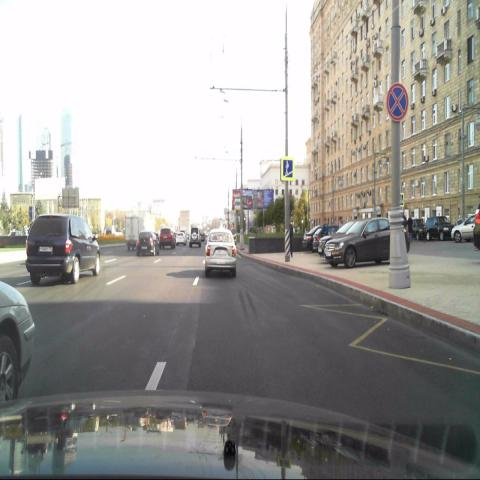6_6: (281, 157, 294, 181)
